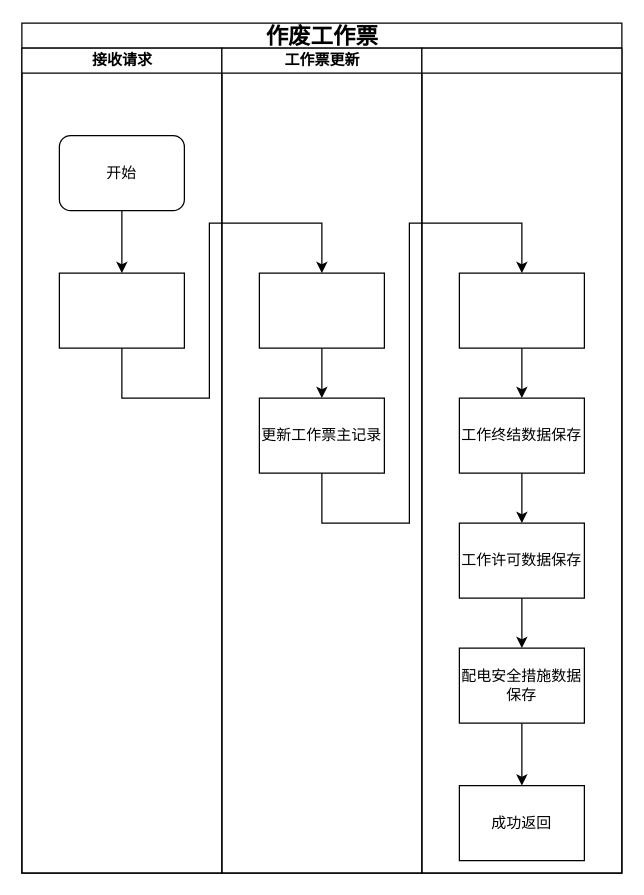
The diagram is 644 pixels wide and 895 high, and some of its shapes have lost their labels. Here are the shapes that lost their labels. From the top down, the box of each, then its label:
(58, 272, 184, 348): 请求参数转换成工作票变更入参对象
(258, 272, 384, 348): 参数转换成工作票主记录
(458, 272, 584, 348): 安全措施记录保存
(421, 47, 622, 873): 子表数据保存
